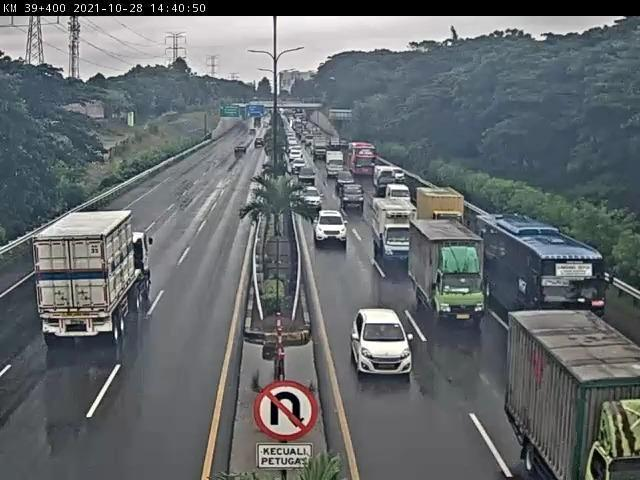bus: (481, 214, 610, 325)
car: (350, 308, 413, 375), (312, 209, 351, 245)
truck: (38, 209, 154, 345), (407, 220, 487, 324), (373, 198, 419, 261), (417, 187, 466, 225)
